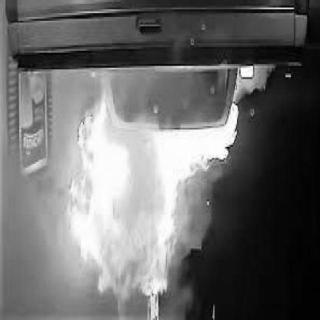Fire: (57, 110, 241, 302)
